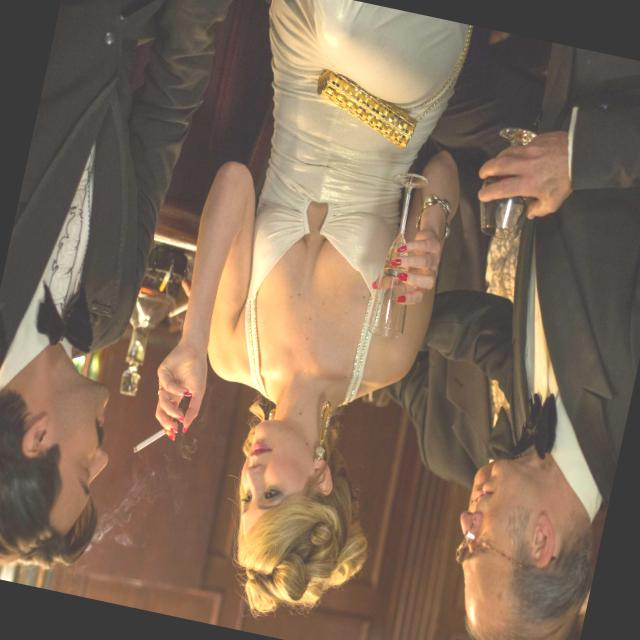smoke: (126, 415, 176, 473)
